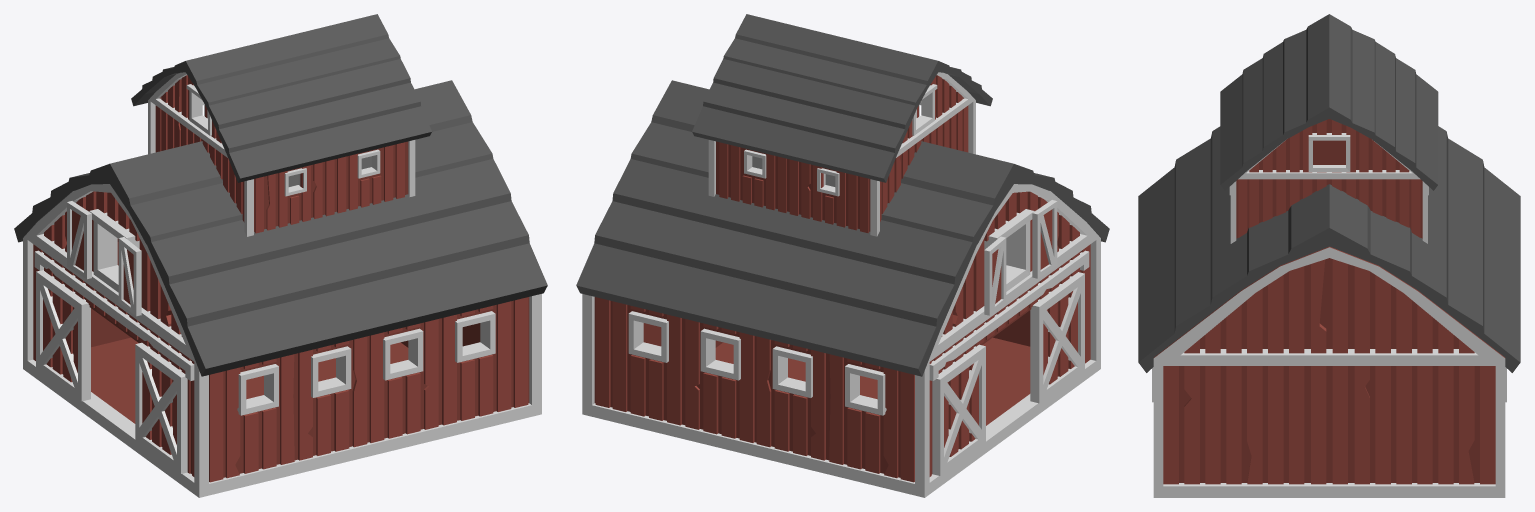
File: bigbarn_window_lev1.glb
The picture shows the model from 3 angles, left to right: view 1: azimuth 30°, elevation 25°; view 2: azimuth 150°, elevation 25°; view 3: azimuth 270°, elevation 25°; orthographic projection.
Visible parts, largest first — view 1: bigbarn_window_lev1; view 2: bigbarn_window_lev1; view 3: bigbarn_window_lev1.
Part boxes in pixels (x1,y1,x2,y2): bigbarn_window_lev1: (14, 14, 547, 497); bigbarn_window_lev1: (576, 14, 1109, 497); bigbarn_window_lev1: (1138, 14, 1520, 497).
Size of the model in its own units: 8.22 by 7.89 by 7.73.
